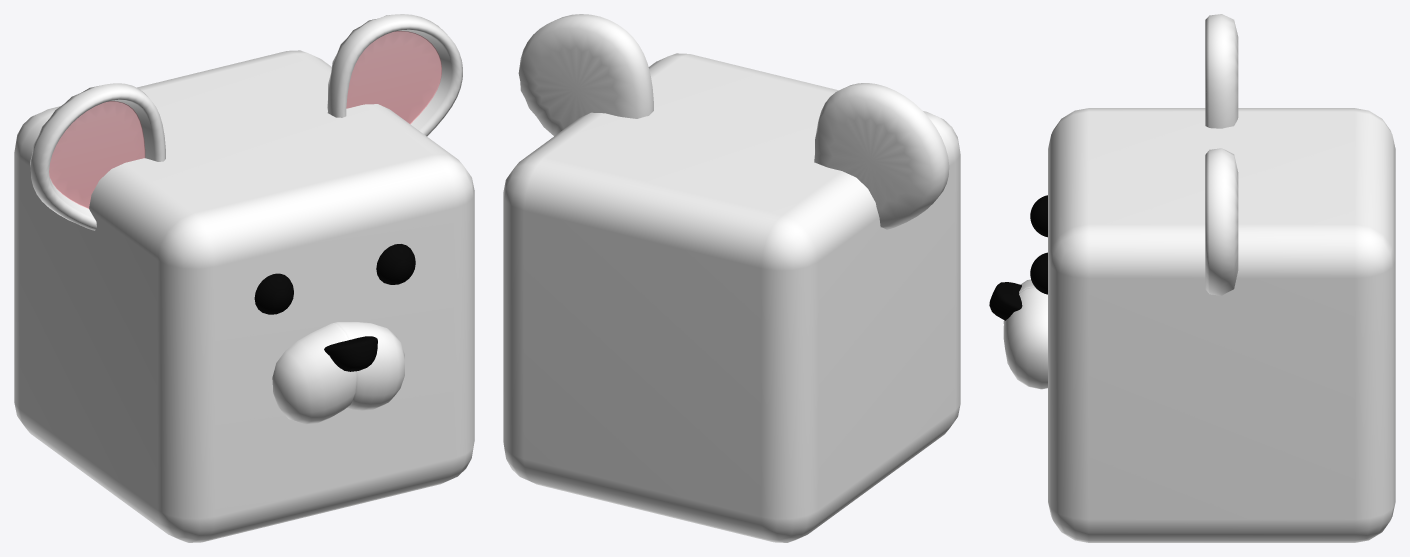
Rendered from PolarBear.fbx.
The picture shows the model from 3 angles, left to right: view 1: azimuth 30°, elevation 25°; view 2: azimuth 150°, elevation 25°; view 3: azimuth 270°, elevation 25°; orthographic projection. The views are drawn at different scales.
Visible parts, largest first — view 1: PolarBear; view 2: PolarBear; view 3: PolarBear.
Part boxes in pixels (x1=…): PolarBear: x1=14, y1=14, x2=474, y2=542; PolarBear: x1=503, y1=14, x2=960, y2=542; PolarBear: x1=989, y1=14, x2=1395, y2=542.
Bounding box in the file's own units: 1.37 × 1.25 × 1.17.
